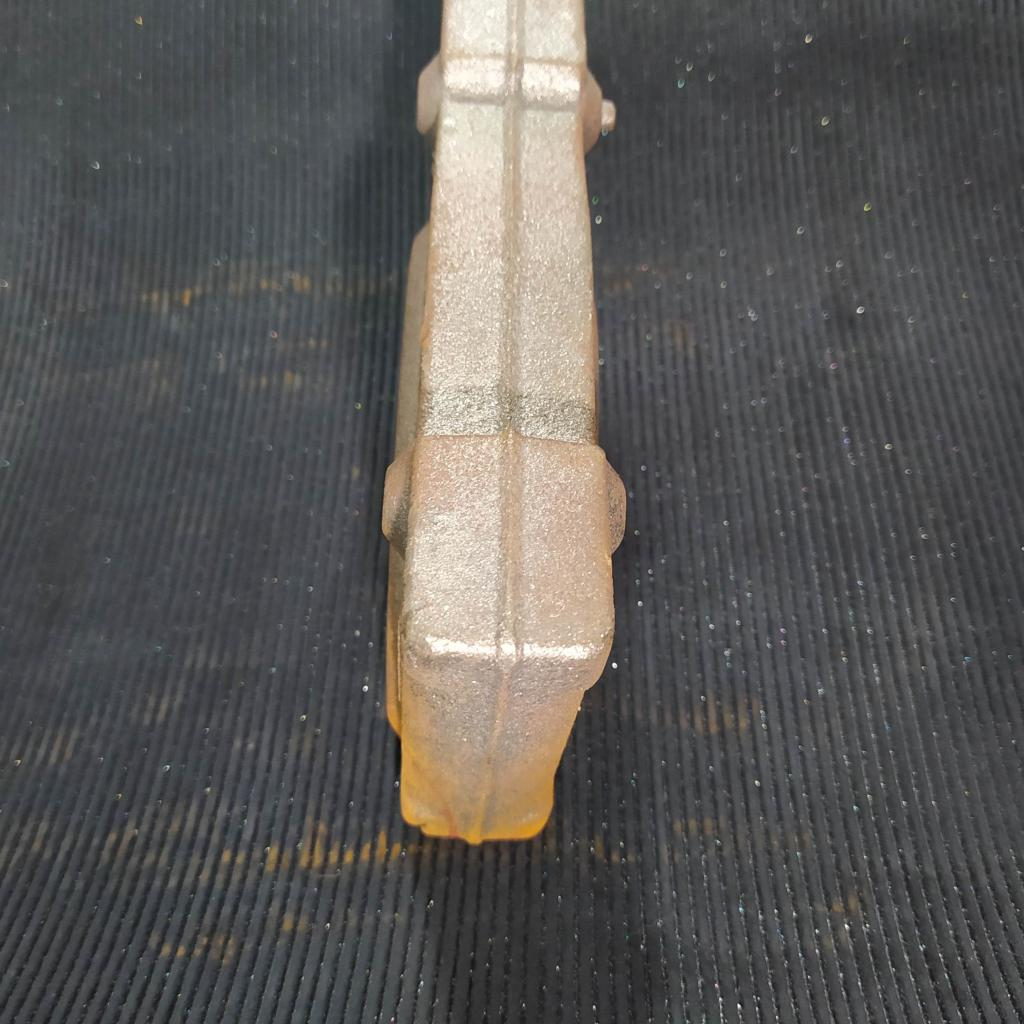rechupe: (409, 817, 424, 834)
